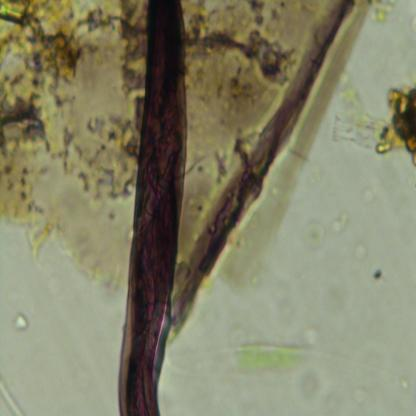Background material: (177, 0, 373, 317), (0, 0, 142, 295), (324, 72, 416, 169), (219, 334, 342, 371), (296, 207, 349, 254), (298, 370, 323, 401), (13, 307, 30, 335), (360, 186, 378, 206), (369, 266, 387, 284), (351, 389, 371, 404), (401, 378, 410, 392)
Cotton: (117, 0, 188, 416)
Glass filter fibre: (0, 377, 22, 416)
